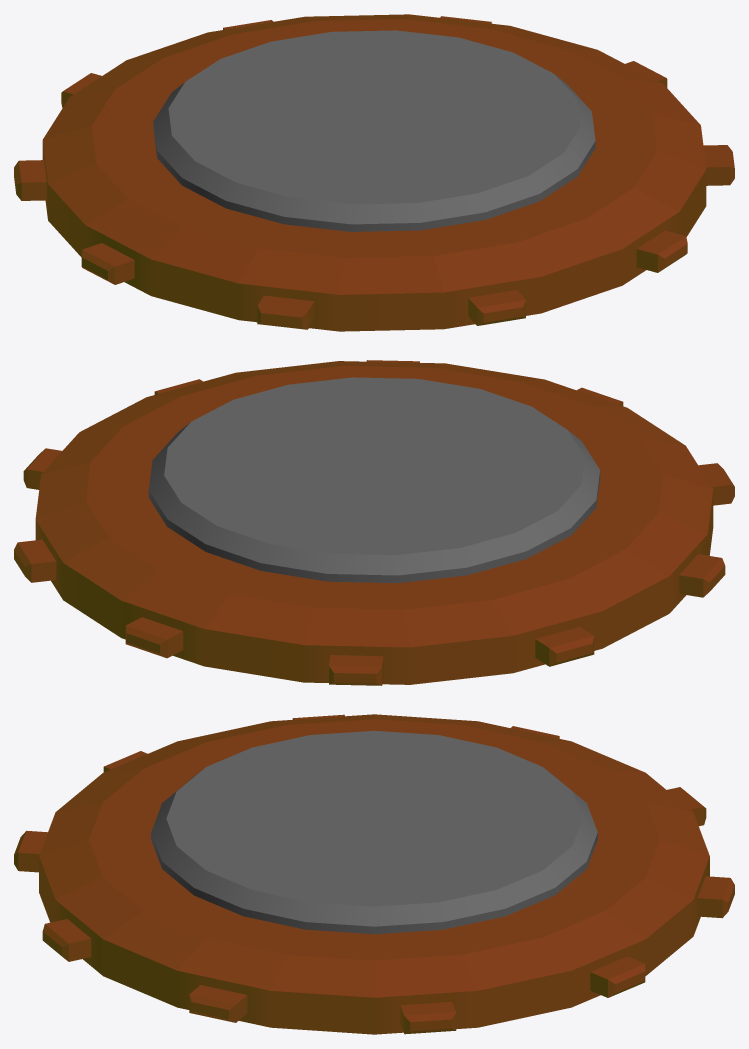
File: NOMOON_OBJ_LANDMINE_001.fbx
3 views of the same model, one above another, from view 1: azimuth 30°, elevation 25°; view 2: azimuth 150°, elevation 25°; view 3: azimuth 270°, elevation 25° (orthographic). The views are drawn at different scales.
Parts seen in each view (by area): view 1: polySurface1, polySurface2; view 2: polySurface1, polySurface2; view 3: polySurface1, polySurface2.
Boxes of the visible parts, x1,y1,x2,y2 form: polySurface1: (14, 14, 734, 331); polySurface2: (153, 30, 595, 231); polySurface1: (14, 360, 734, 685); polySurface2: (148, 377, 600, 583); polySurface1: (14, 714, 734, 1034); polySurface2: (151, 730, 597, 934).
Bounding box in the file's own units: 2.37 × 0.2694 × 2.37.
